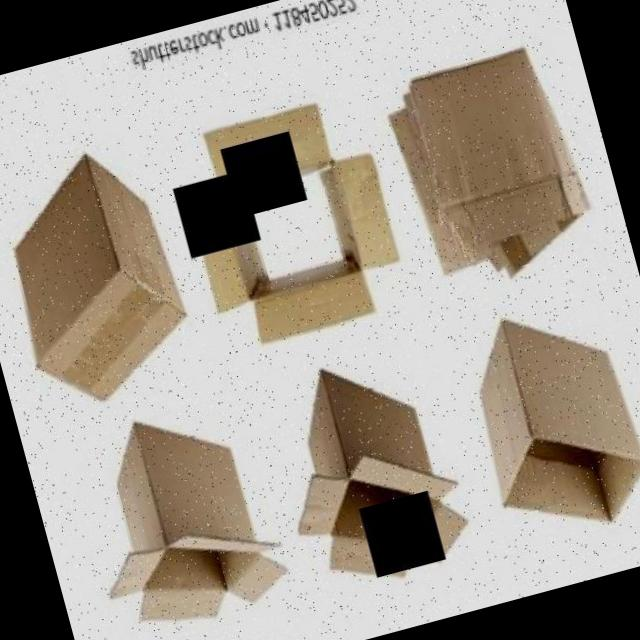box: (156, 80, 418, 361), (369, 24, 614, 314), (252, 335, 488, 616), (60, 381, 305, 640), (0, 128, 205, 417), (445, 285, 640, 556)
